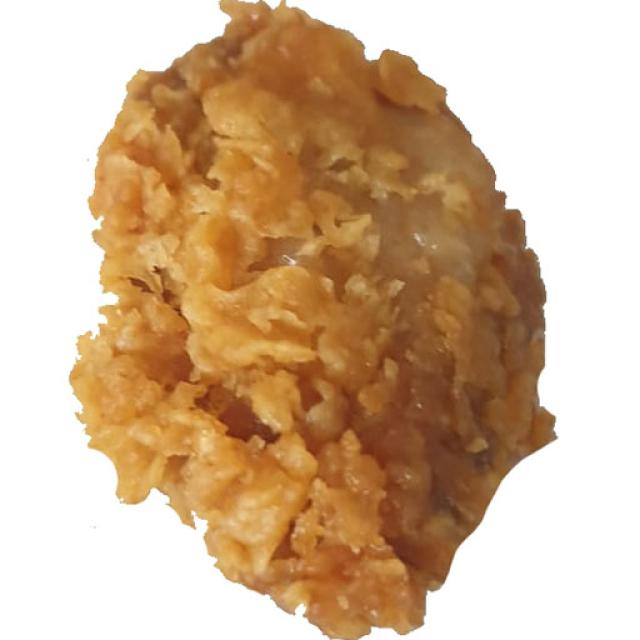Frango: (79, 77, 489, 595)
